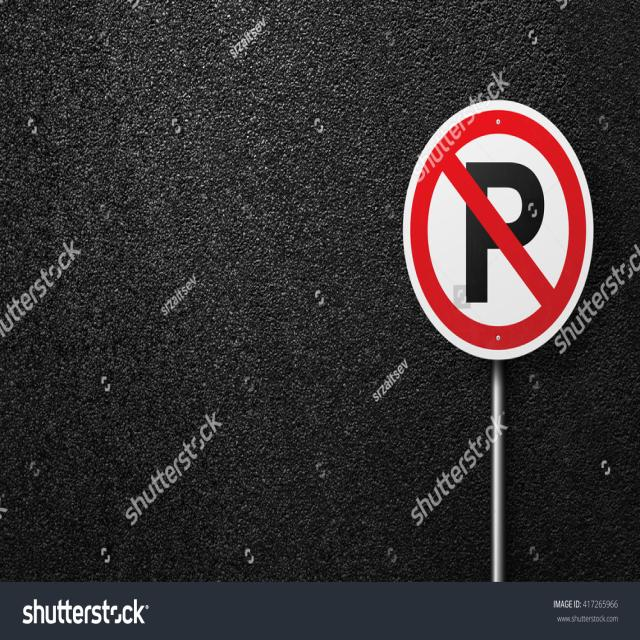Traffic sign: (409, 79, 602, 368)
